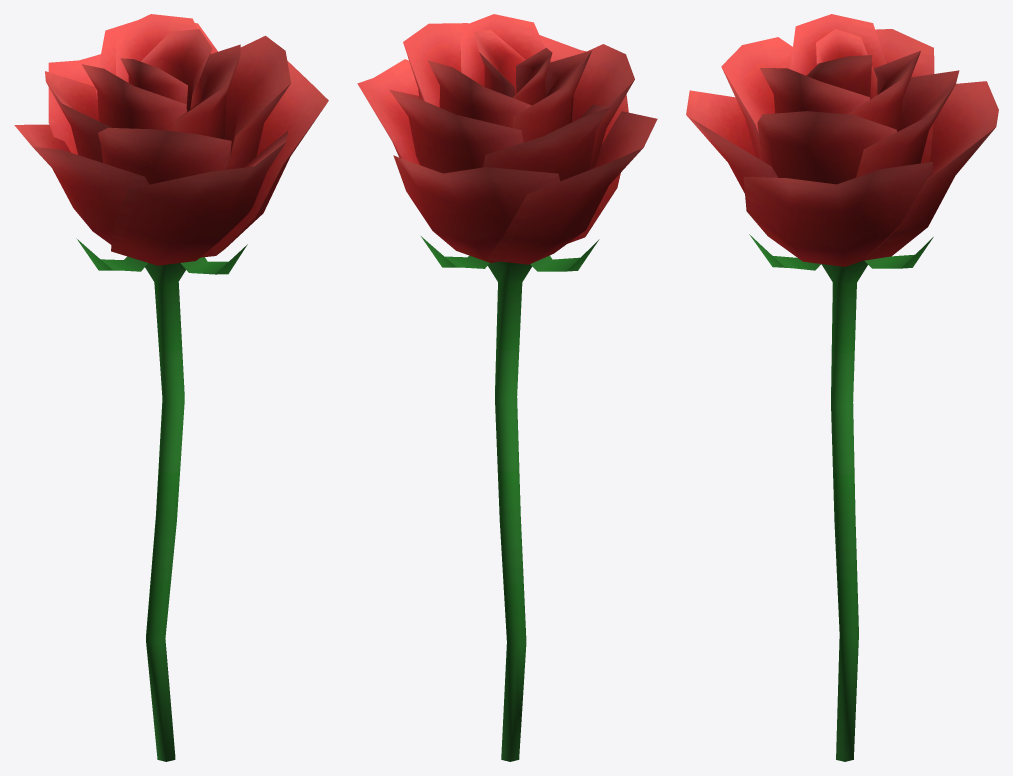
File: Rosa.obj
The picture shows the model from 3 angles, left to right: view 1: azimuth 30°, elevation 25°; view 2: azimuth 150°, elevation 25°; view 3: azimuth 270°, elevation 25°; orthographic projection.
Visible parts, largest first — view 1: mesh_rose__rose_m; view 2: mesh_rose__rose_m; view 3: mesh_rose__rose_m.
Part boxes in pixels (x1,y1,x2,y2): mesh_rose__rose_m: (14,14,328,761); mesh_rose__rose_m: (357,14,657,761); mesh_rose__rose_m: (686,14,998,761).
Size of the model in its own units: 0.0687 by 0.1715 by 0.0677.
1 material, 1 textured.
